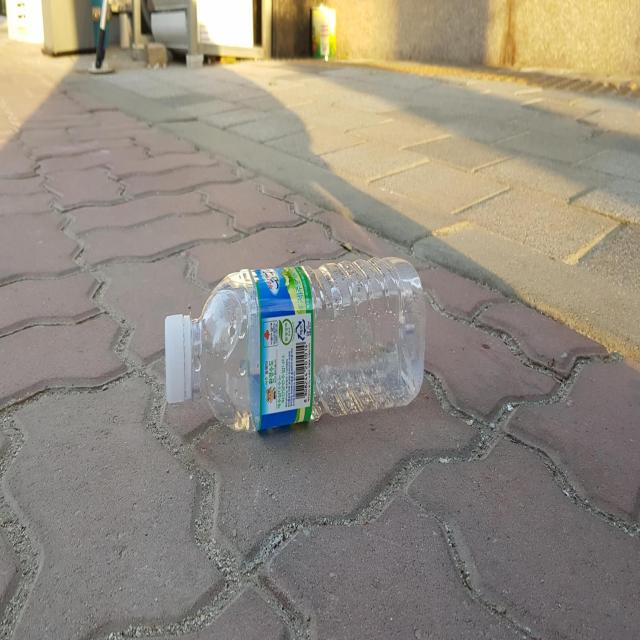plastic: (165, 257, 426, 431)
